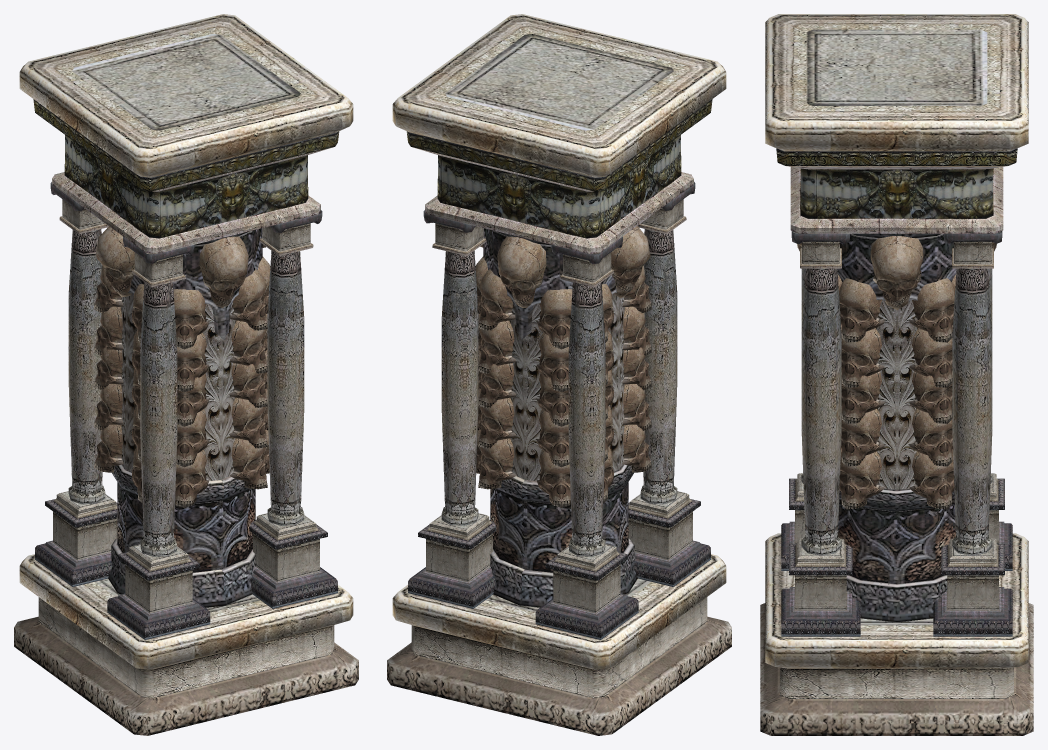
Rendered from WallDeco.fbx.
3 views of the same model, side by side, from view 1: azimuth 30°, elevation 25°; view 2: azimuth 150°, elevation 25°; view 3: azimuth 270°, elevation 25° (orthographic). The views are drawn at different scales.
Visible parts, largest first — view 1: M4_Nigraturis_SulaLaboratory_CandleStand_SM_SCY; view 2: M4_Nigraturis_SulaLaboratory_CandleStand_SM_SCY; view 3: M4_Nigraturis_SulaLaboratory_CandleStand_SM_SCY.
Boxes of the visible parts, bbox=[...] form: M4_Nigraturis_SulaLaboratory_CandleStand_SM_SCY: bbox=[14, 14, 358, 735]; M4_Nigraturis_SulaLaboratory_CandleStand_SM_SCY: bbox=[387, 14, 731, 735]; M4_Nigraturis_SulaLaboratory_CandleStand_SM_SCY: bbox=[760, 14, 1033, 735].
Bounding box in the file's own units: 0.9938 × 2.45 × 0.9938.
1 material, 1 textured.
